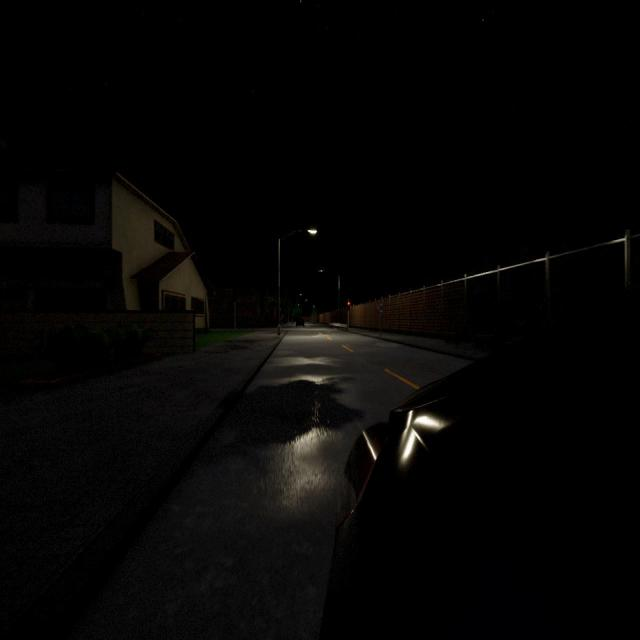Traffic_Signs: (377, 303, 385, 313)
Vehicle: (328, 317, 640, 640), (296, 315, 305, 328)
traffic_light: (347, 301, 350, 311)
